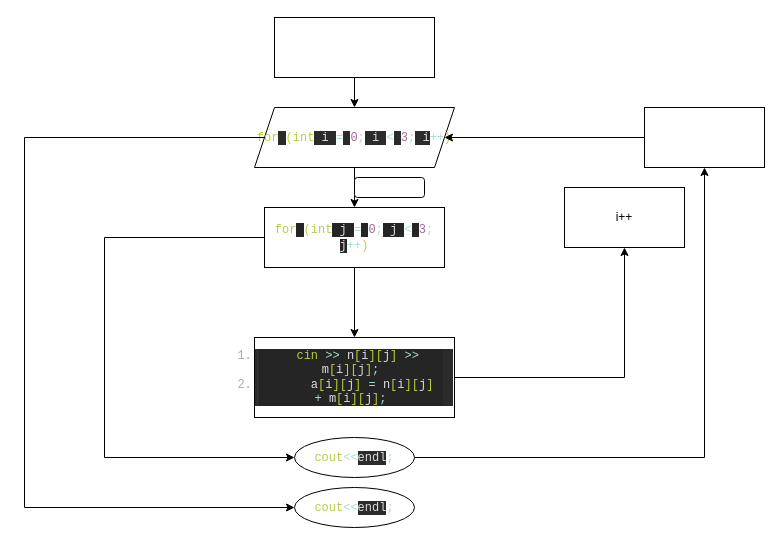
Some shapes in this 782 by 545 pixel diagram are drawn without their labels. Each missing label, with the centre of its shape:
int n [ 3 ] [ 3 ] ; int m [ 3 ] [ 3 ] ; int a [ 3 ] [ 3 ] ;: (x=354, y=47)
j--: (x=704, y=137)
true: (x=389, y=187)
